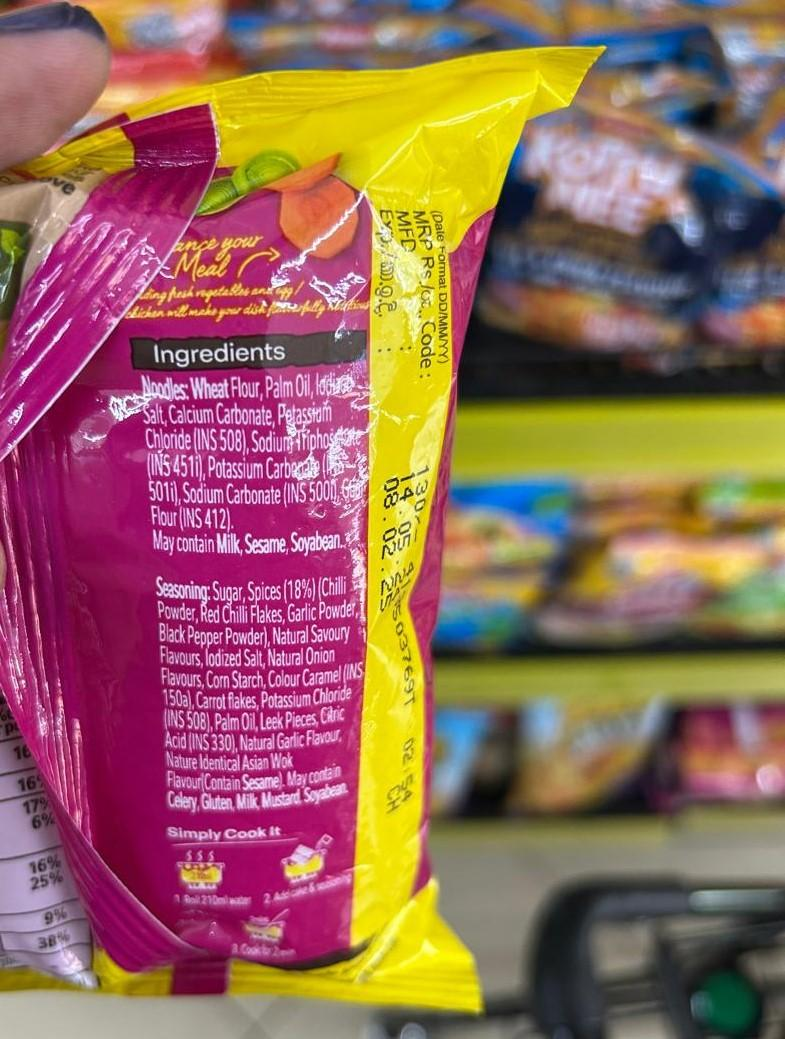ingredients: (108, 294, 507, 618)
